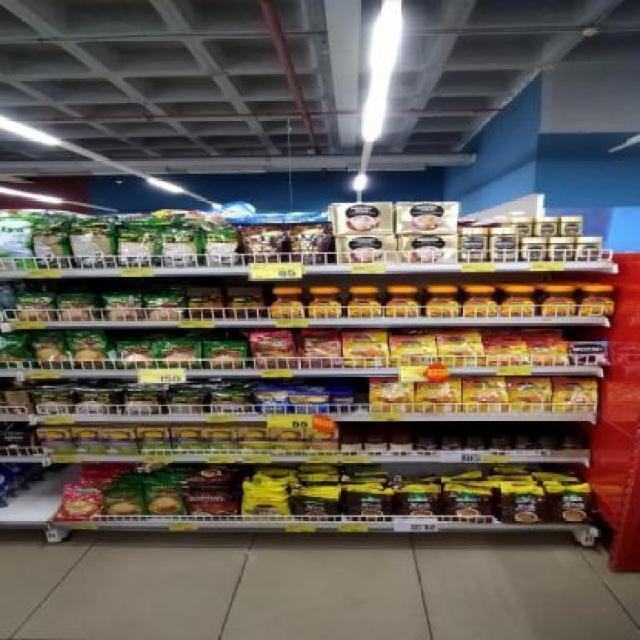Coffee: (343, 332, 389, 366), (416, 378, 462, 412), (463, 377, 507, 412), (371, 378, 414, 412), (390, 336, 437, 367), (438, 333, 484, 364), (508, 378, 550, 411), (553, 380, 596, 412), (269, 289, 304, 318), (486, 341, 528, 365), (500, 287, 534, 316), (543, 287, 576, 316), (463, 288, 497, 316), (581, 288, 614, 316), (528, 341, 566, 365), (493, 227, 519, 261), (426, 289, 458, 316), (386, 289, 418, 316), (350, 289, 382, 316), (309, 289, 340, 316), (569, 342, 606, 364), (461, 228, 486, 260), (579, 237, 602, 260), (550, 238, 572, 260), (523, 238, 544, 260), (536, 218, 557, 236), (562, 217, 581, 234), (515, 218, 532, 236)
